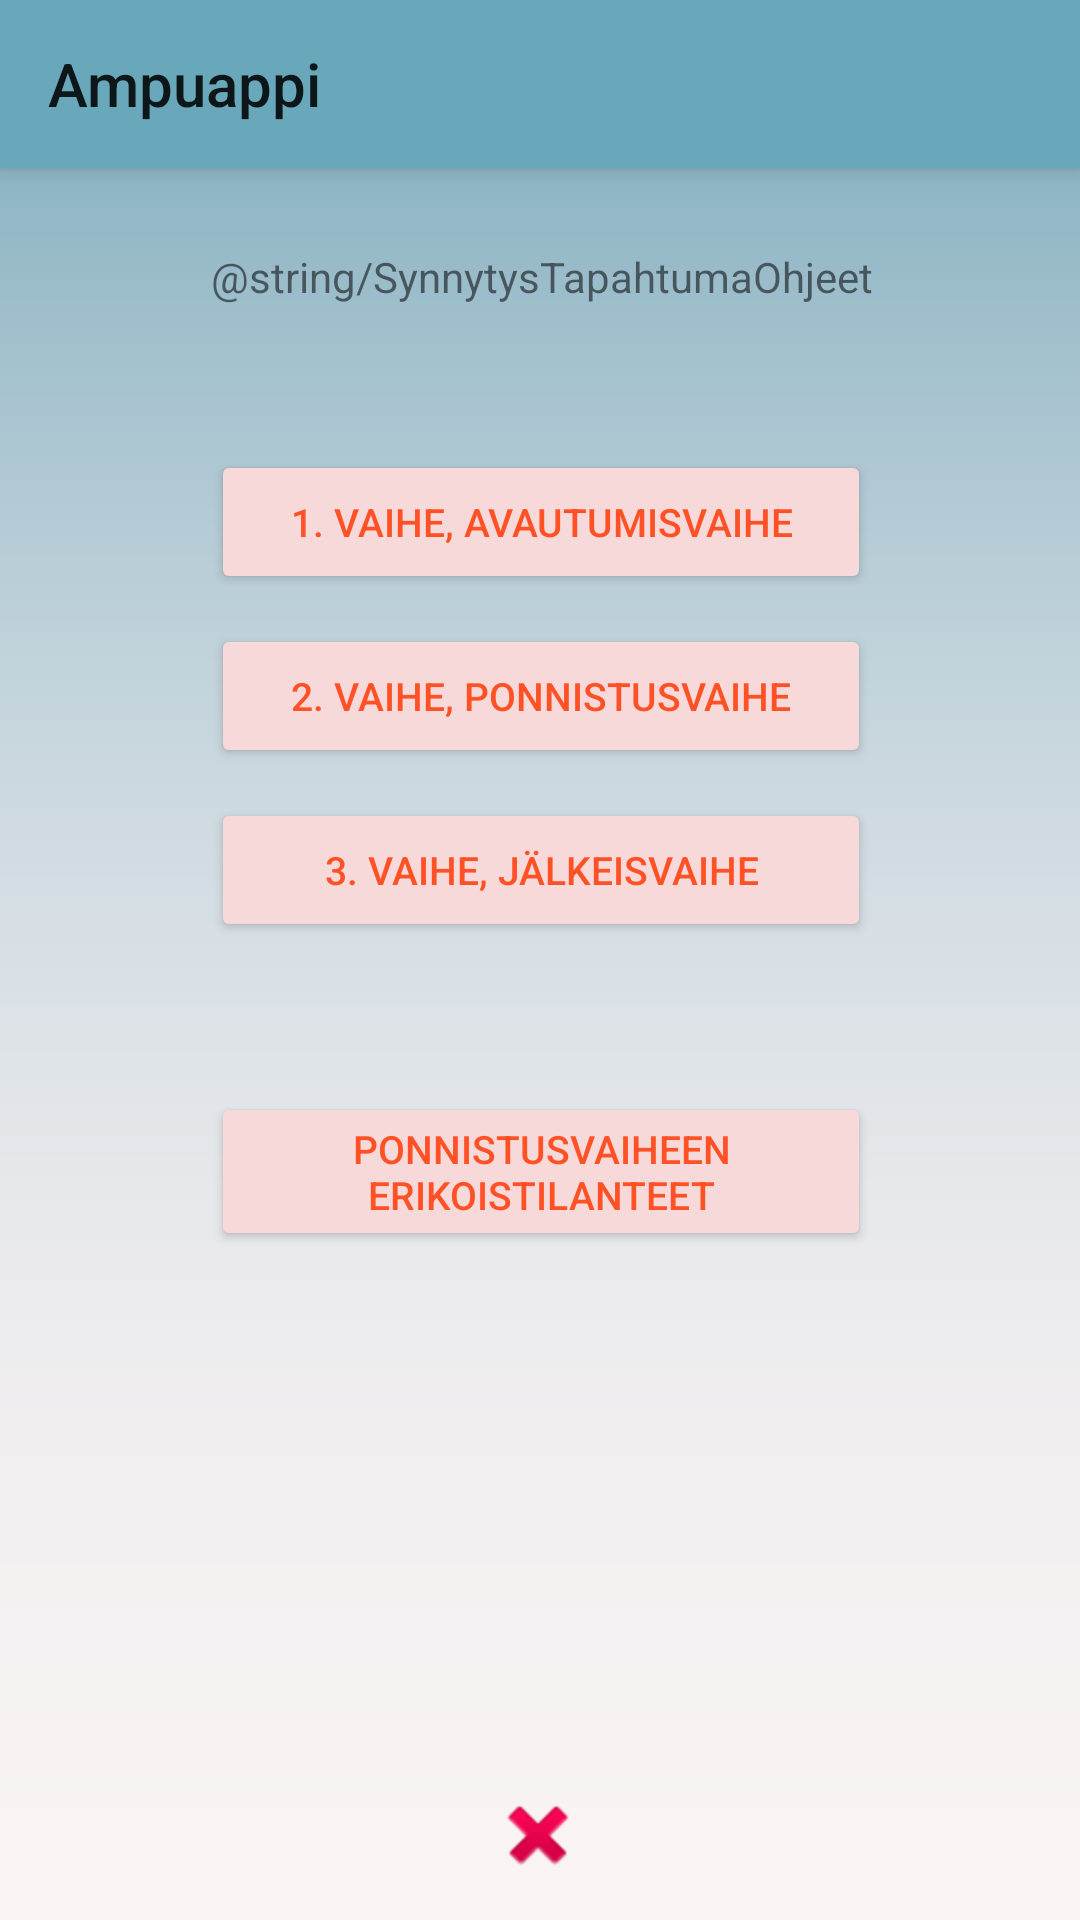

Icons on this 1080×1920 Android screen, each with its box as (x1, y1, x2, y2):
delete: (507, 1806, 569, 1865)
